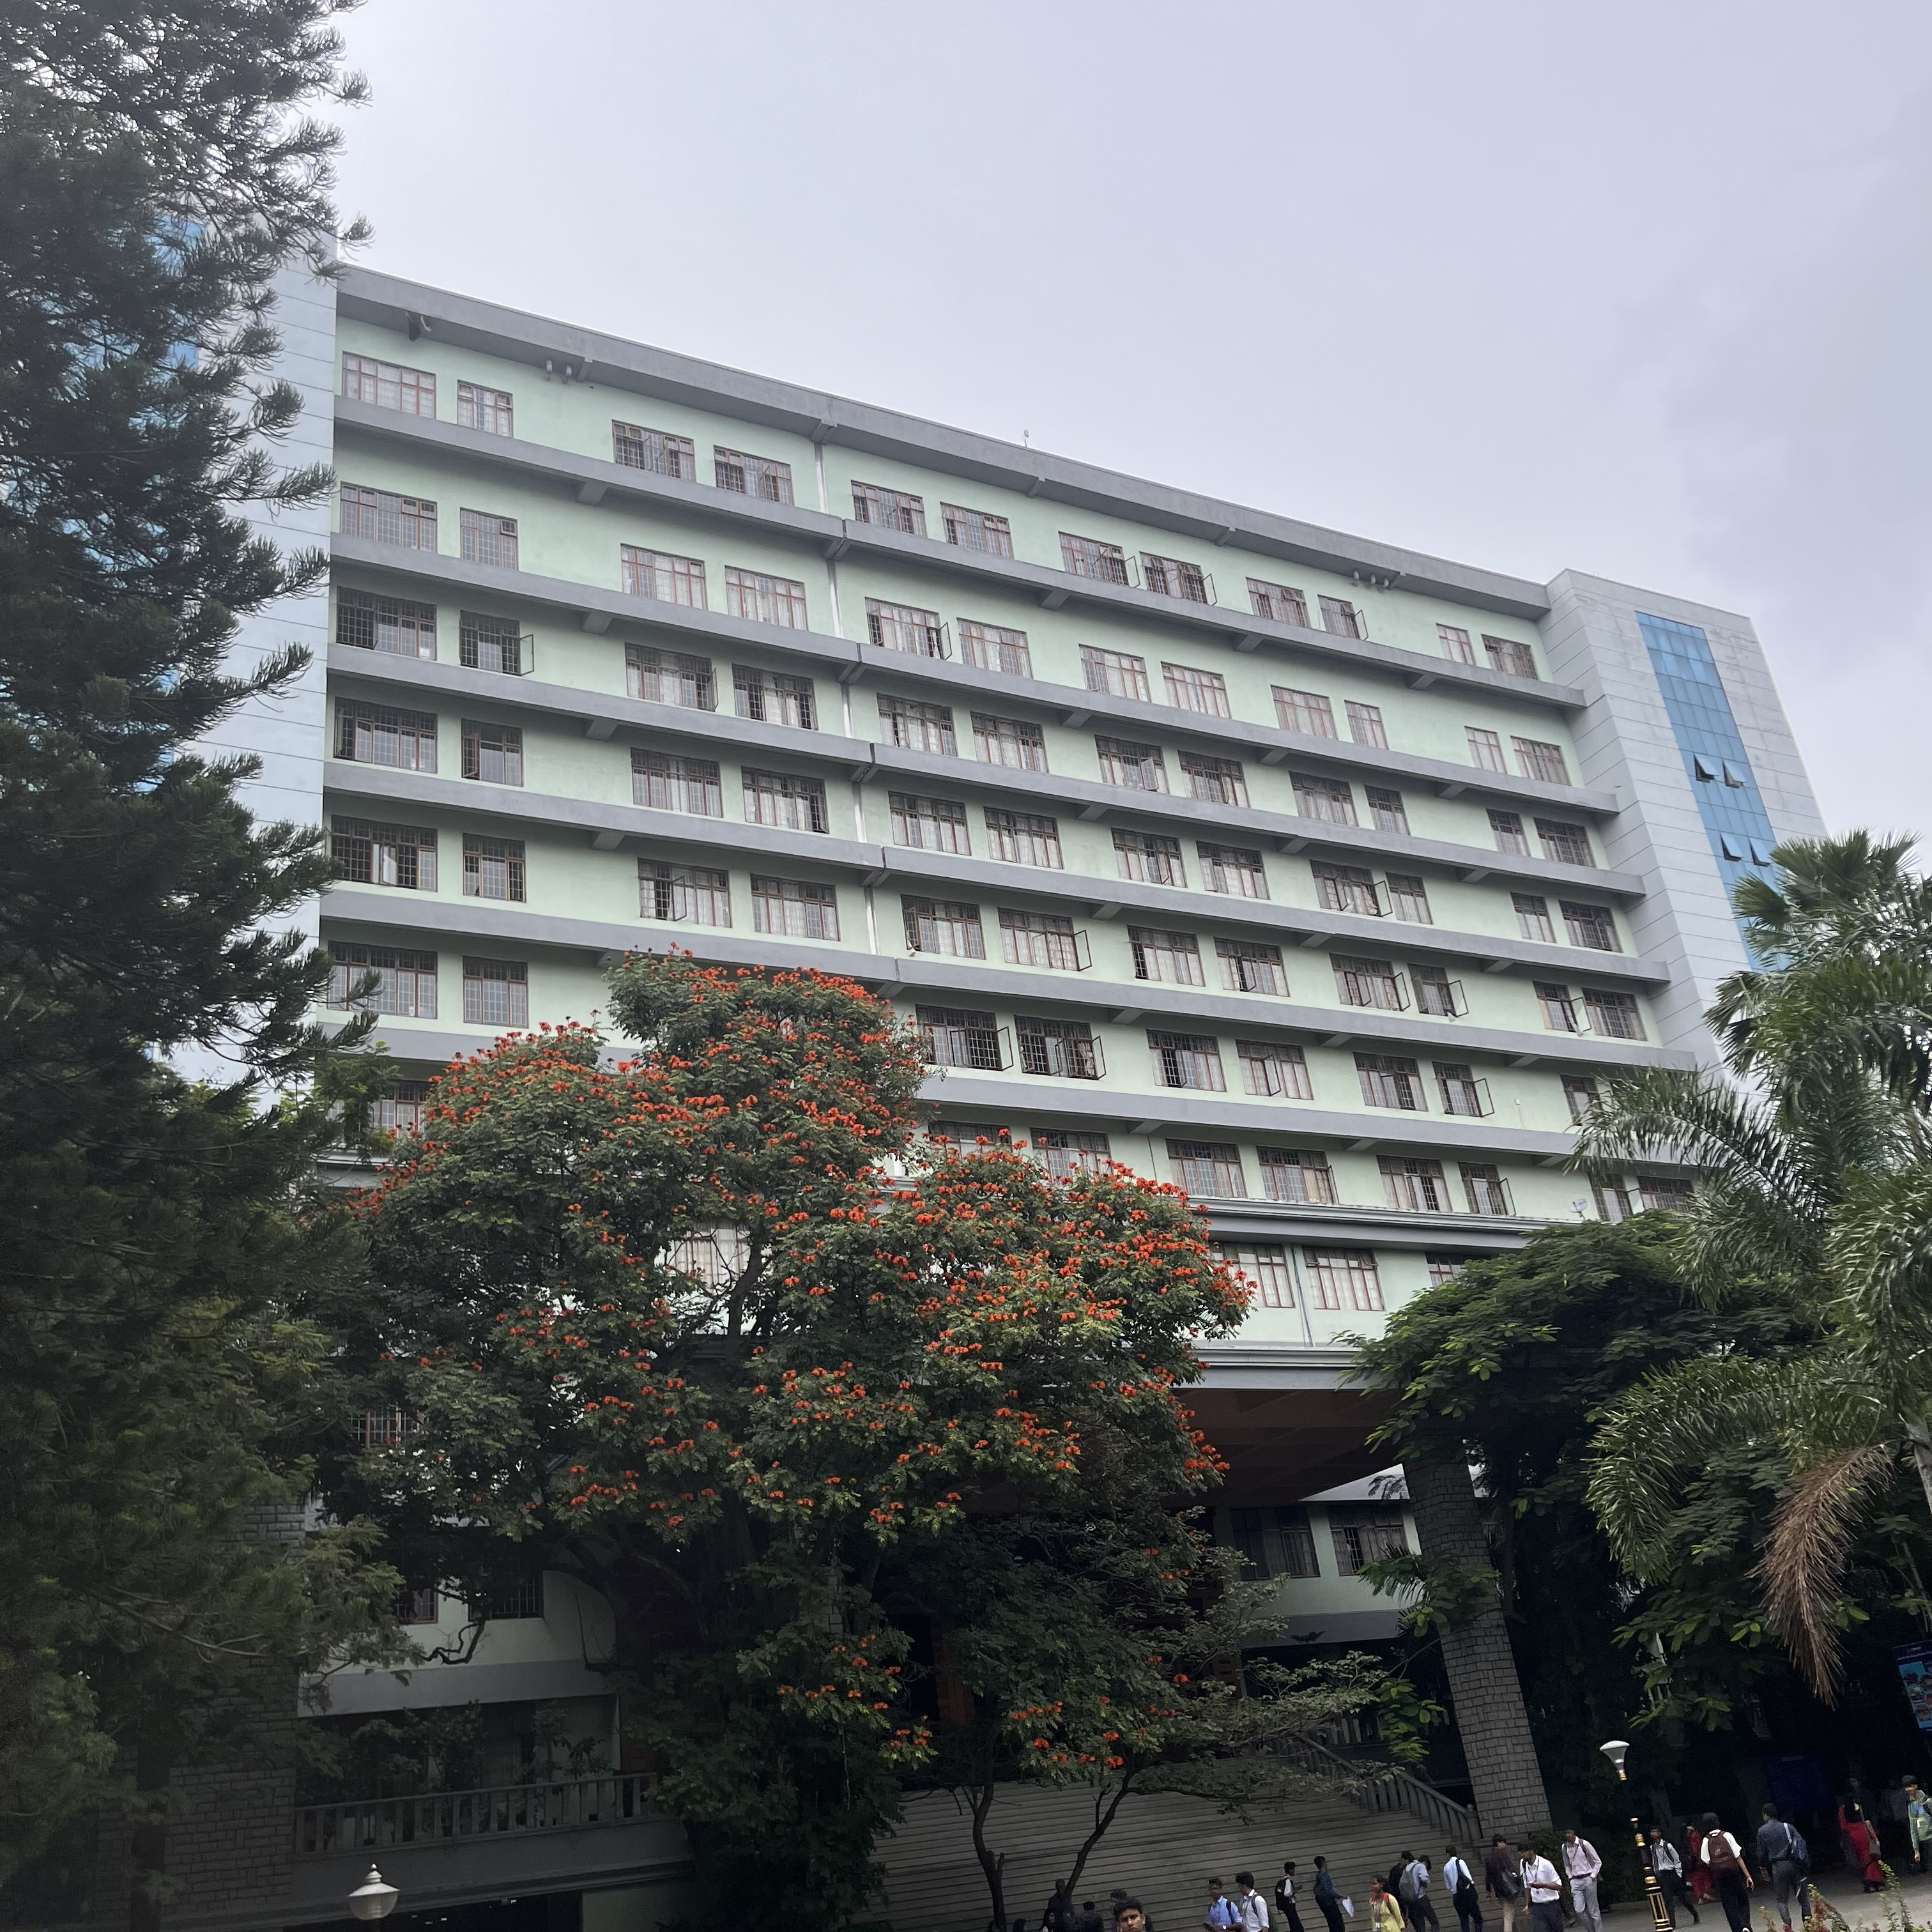Central Block: (274, 203, 1760, 1925)
